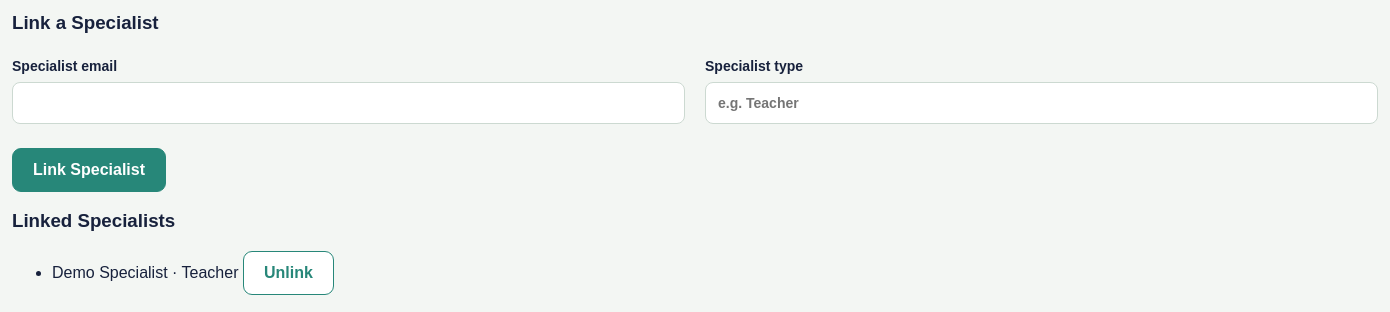
Scenario: unlinks the specialist after confirmation and reloads the list
Step 1. Click the button with aria-label "Unlink Demo Specialist" → (288, 273), box x1=243 y1=251 x2=334 y2=295
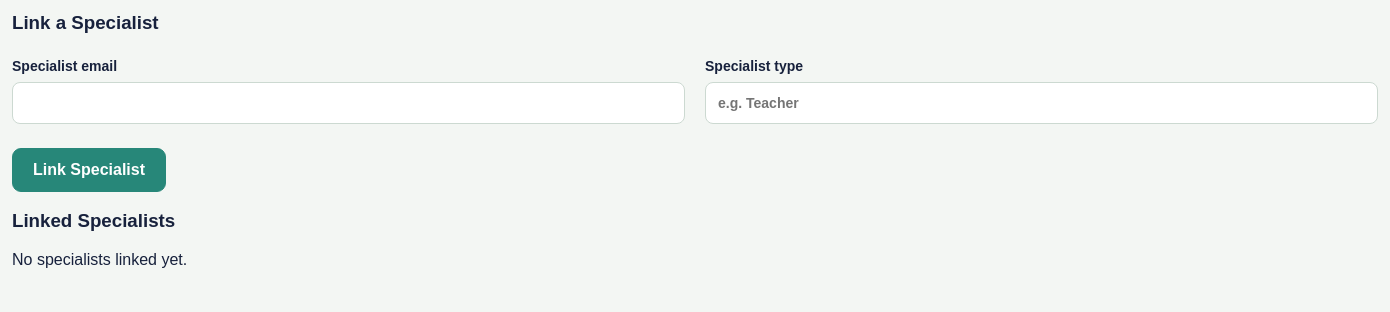
Expected: the text "No specialists linked yet." is shown, x1=12 y1=251 x2=187 y2=268
